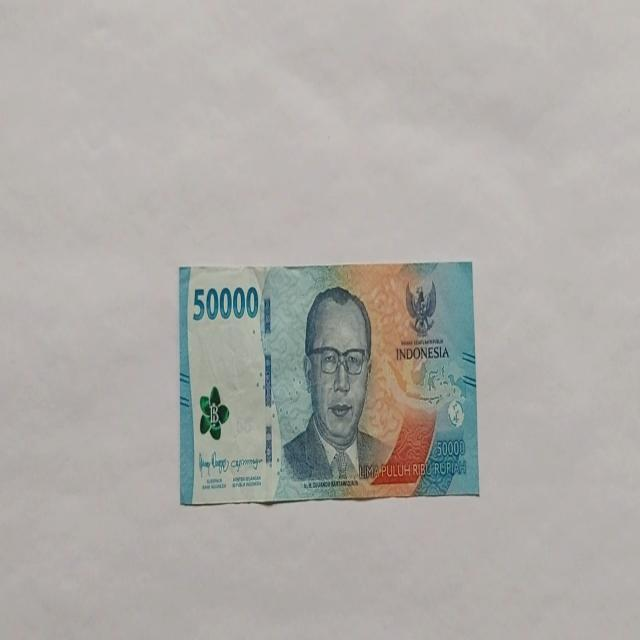lima puluh ribu rupiah: (178, 260, 479, 506), (278, 284, 392, 491)
